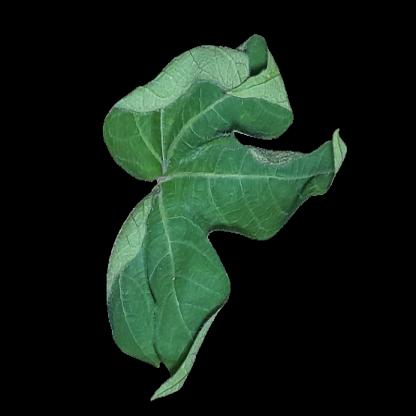curl_stage2: (178, 157, 292, 222), (206, 49, 266, 135), (181, 58, 230, 136), (132, 90, 193, 139), (127, 227, 176, 282)
